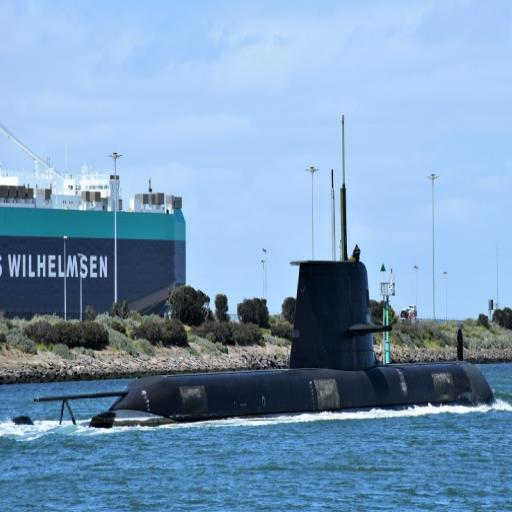submarine: (13, 260, 497, 431)
